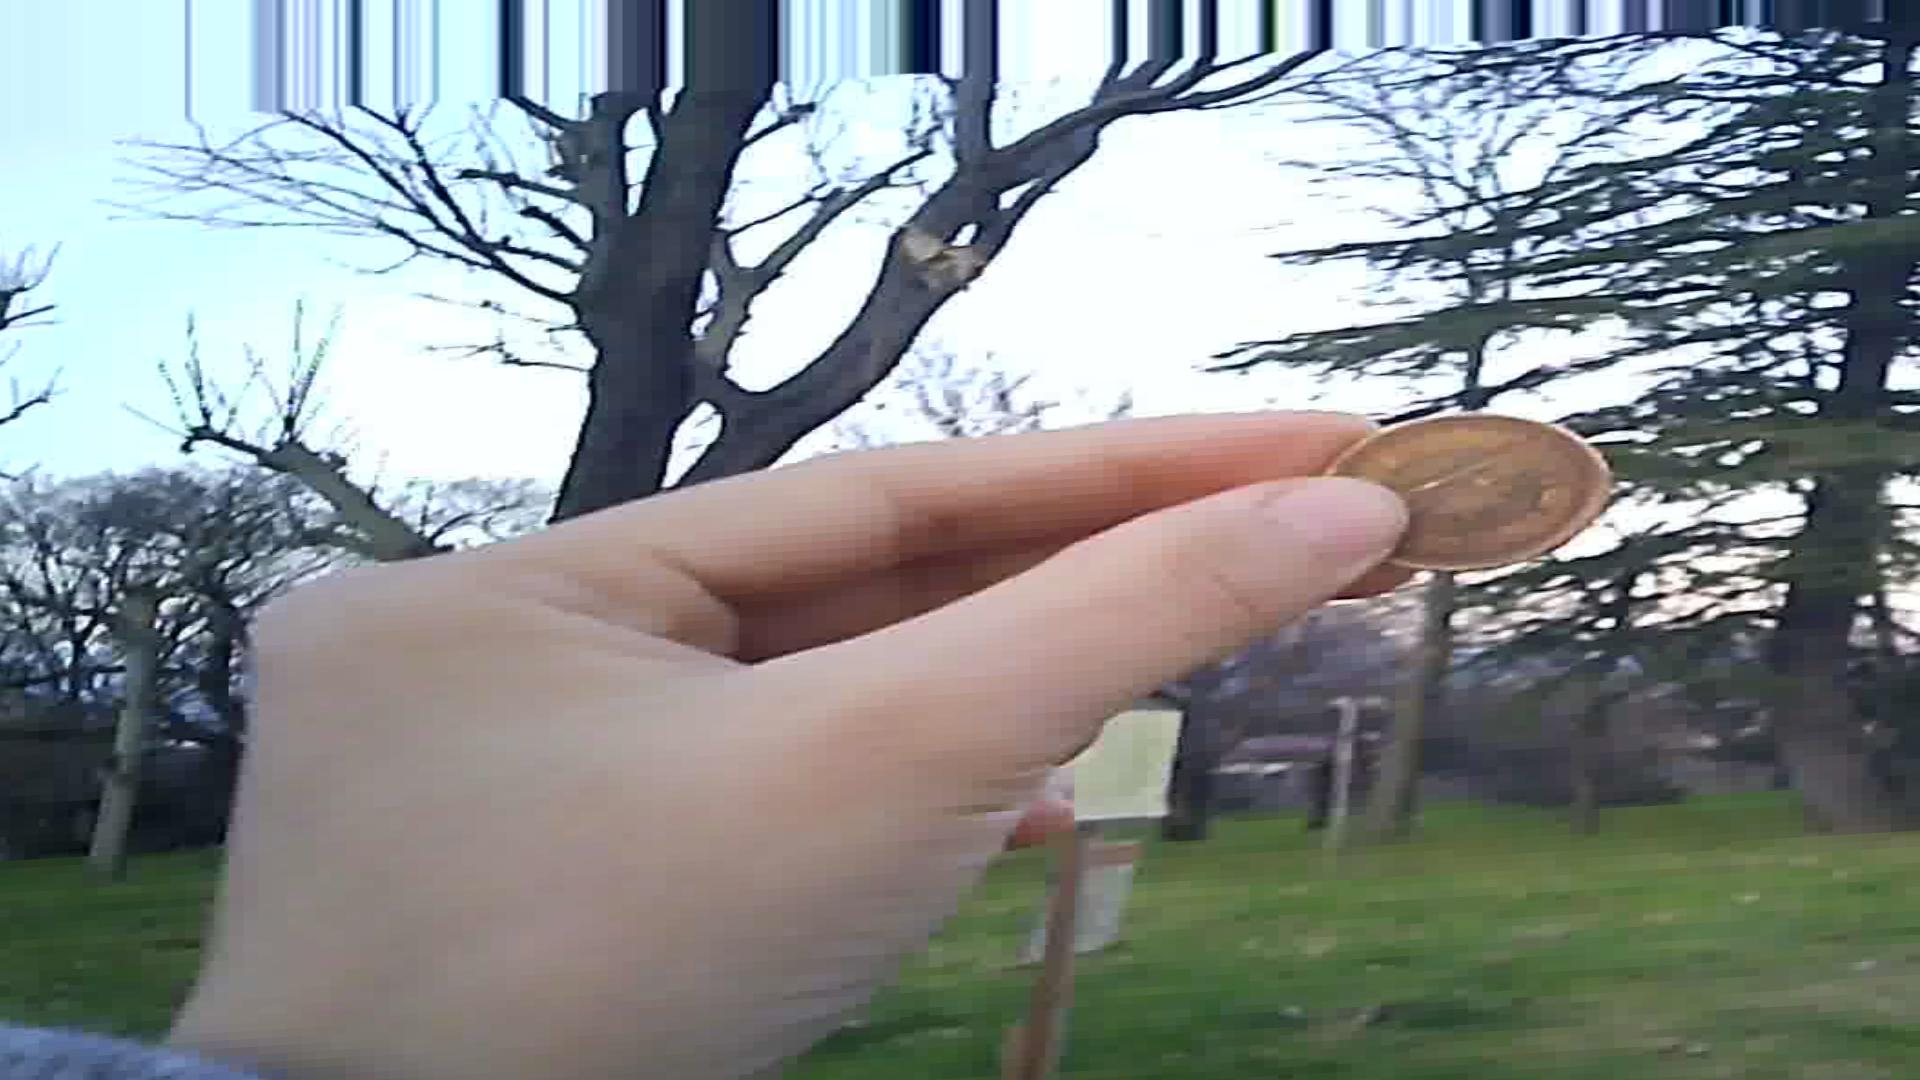10 Yen: (1327, 415, 1607, 579)
